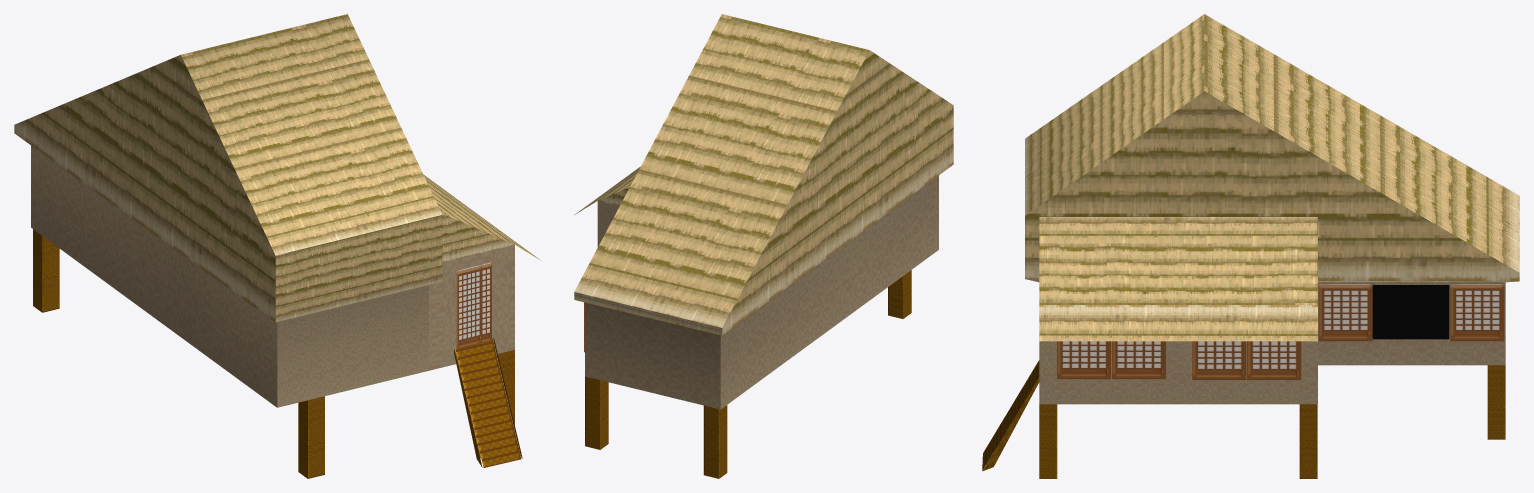
The model's file is bahay_kubo2.fbx.
3 views of the same model, side by side, from view 1: azimuth 30°, elevation 25°; view 2: azimuth 150°, elevation 25°; view 3: azimuth 270°, elevation 25° (orthographic). The views are drawn at different scales.
Visible parts, largest first — view 1: group13_pasted__pCube7; view 2: group13_pasted__pCube7; view 3: group13_pasted__pCube7.
Boxes of the visible parts, x1,y1,x2,y2 form: group13_pasted__pCube7: [14, 14, 540, 478]; group13_pasted__pCube7: [574, 14, 953, 478]; group13_pasted__pCube7: [982, 14, 1519, 478].
Size of the model in its own units: 11.4 by 14.75 by 20.33.
